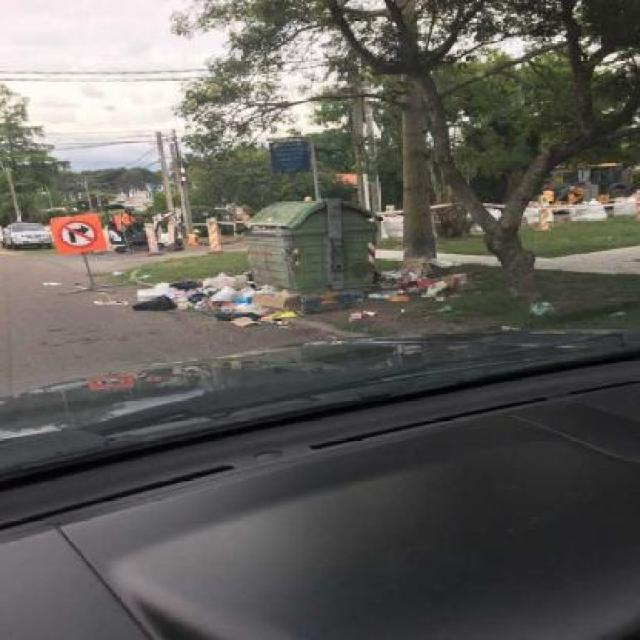garbage: (122, 257, 321, 342), (365, 255, 479, 300), (282, 277, 398, 316)
